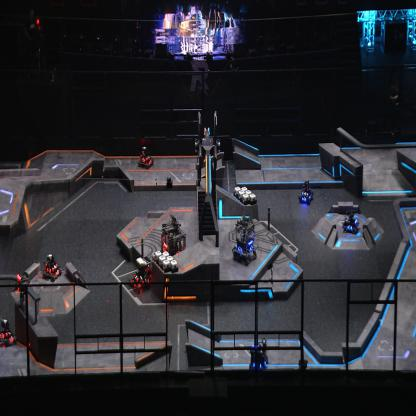car: (232, 214, 257, 266), (159, 221, 187, 262), (129, 255, 153, 294), (249, 337, 270, 373), (42, 254, 62, 281), (0, 317, 17, 348), (342, 209, 359, 236), (138, 145, 154, 169), (298, 180, 314, 204)
